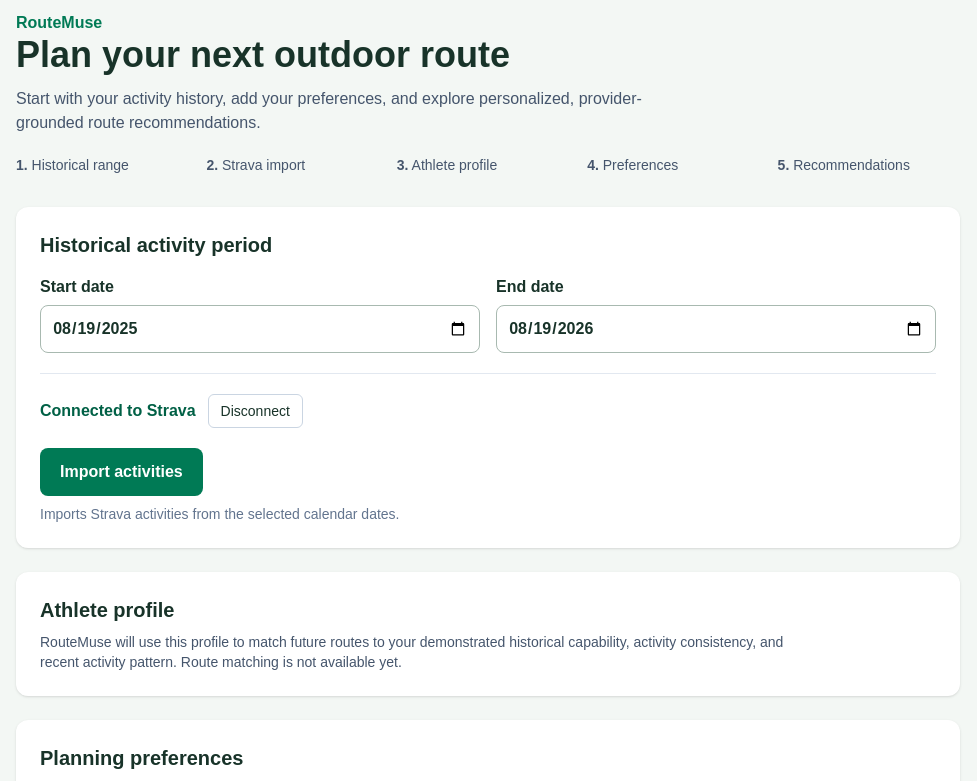
it: PlannerForm › shows imported, updated, and unsupported counts
Expected: the text "Connected to Strava" is shown, [40,399,196,423]
Click the button "Import activities" at (121, 472), box [40,448,203,496]
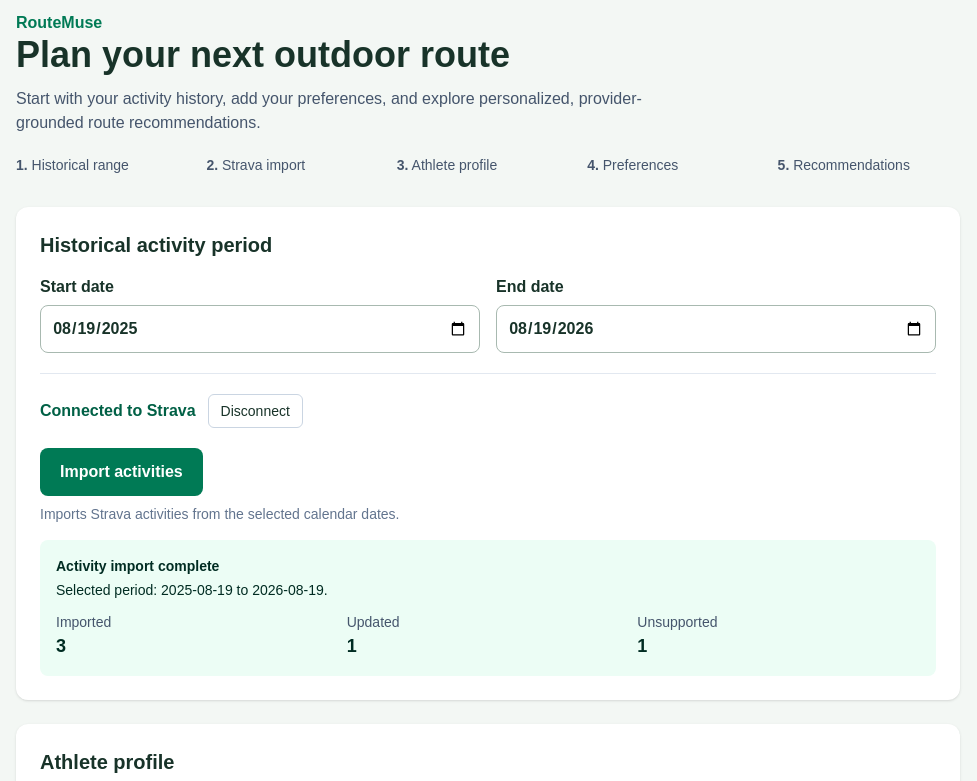
Now the text "3" is shown, box [56,636,66,656]
Now the text "1" below "Unsupported" is shown, box [637,636,647,656]
